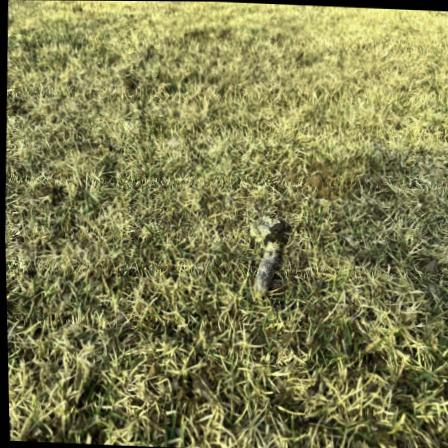dog-poop: (225, 209, 299, 303)
